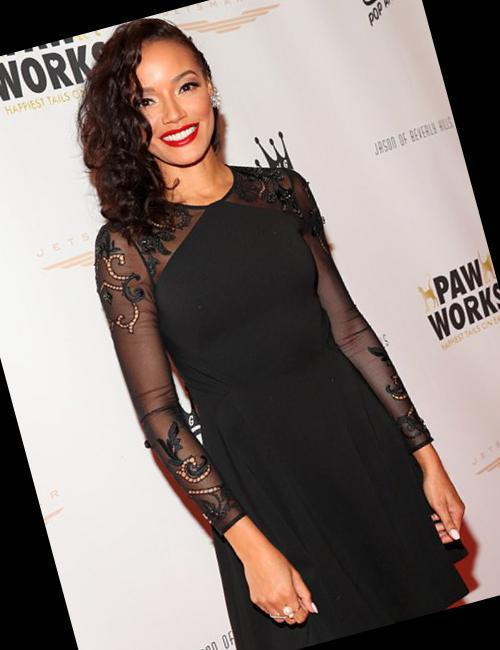Sober: (133, 55, 209, 161)
